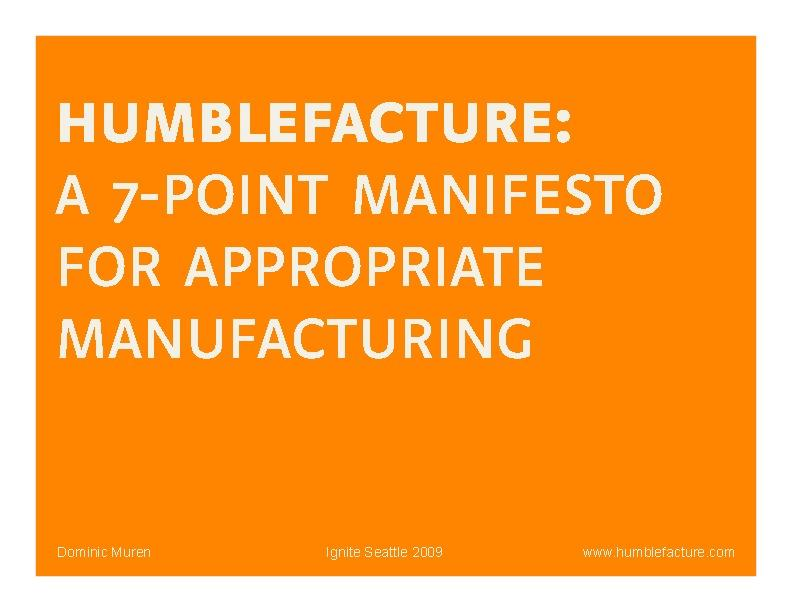title: (53, 87, 688, 387)
